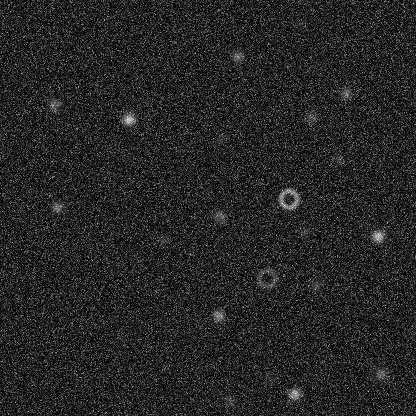Ring: (254, 266, 278, 290), (276, 186, 300, 210)
Spot: (211, 132, 227, 148), (155, 231, 171, 247), (372, 365, 388, 381), (291, 16, 307, 32), (120, 111, 136, 127), (369, 228, 385, 244), (286, 386, 302, 402), (210, 208, 226, 224), (210, 307, 226, 323), (46, 96, 62, 112), (338, 84, 354, 100), (302, 109, 318, 125), (229, 48, 245, 64), (307, 277, 323, 293), (220, 392, 236, 408), (297, 223, 313, 239), (49, 199, 65, 215), (262, 369, 278, 385), (330, 150, 346, 166)
